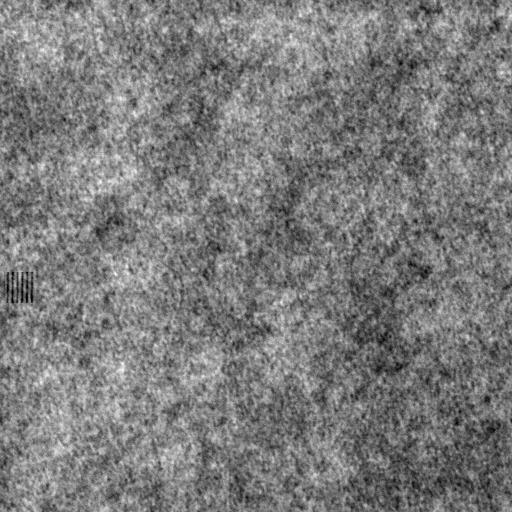DefectTypeB: (5, 271, 35, 303)
